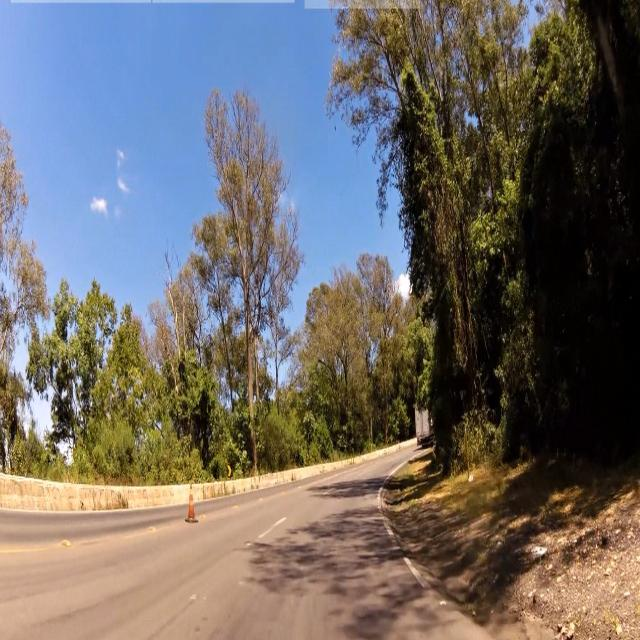Del: (228, 463, 232, 478)
